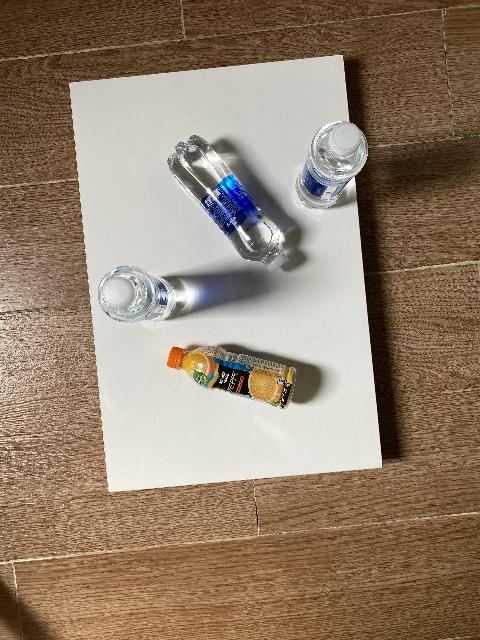aquafina: (167, 135, 289, 273), (295, 121, 368, 210), (97, 266, 177, 324)
teppy_orange_juice: (167, 346, 295, 409)
